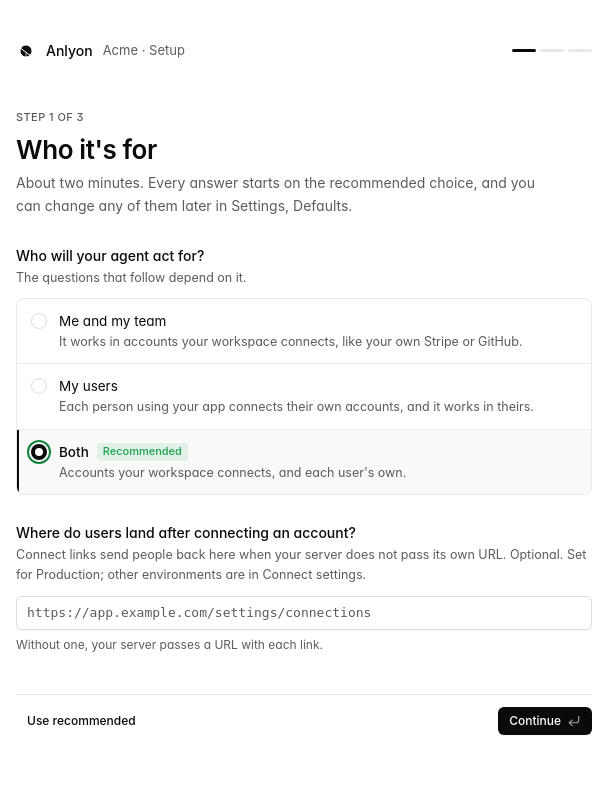
Test case: setup journey › starts every question on its recommended answer
The image size is (609, 802).
expect the text "Recommended" is shown: met, box [97,443,188,461]
Click the button "Continue": click(545, 721) [498,707,592,735]
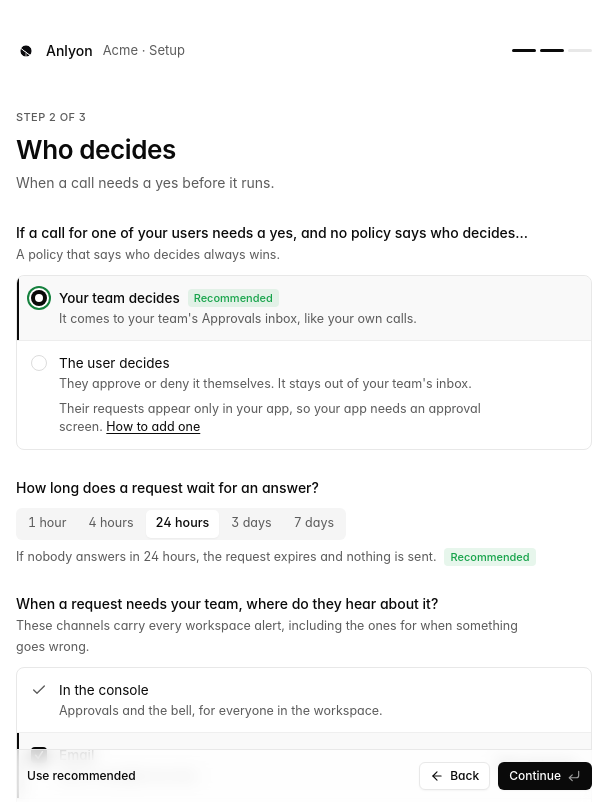
expect the heading "Who decides" is shown: met, box [16,134,176,164]
Click the button "Continue": click(545, 776) [498,762,592,790]
(page scrolled)
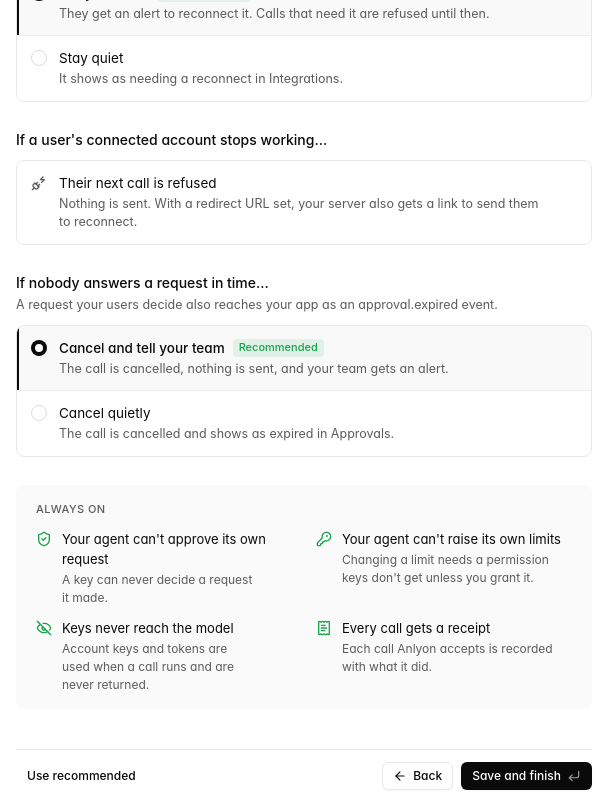
expect the text "Always on" is shown: met, box [36,502,106,516]
